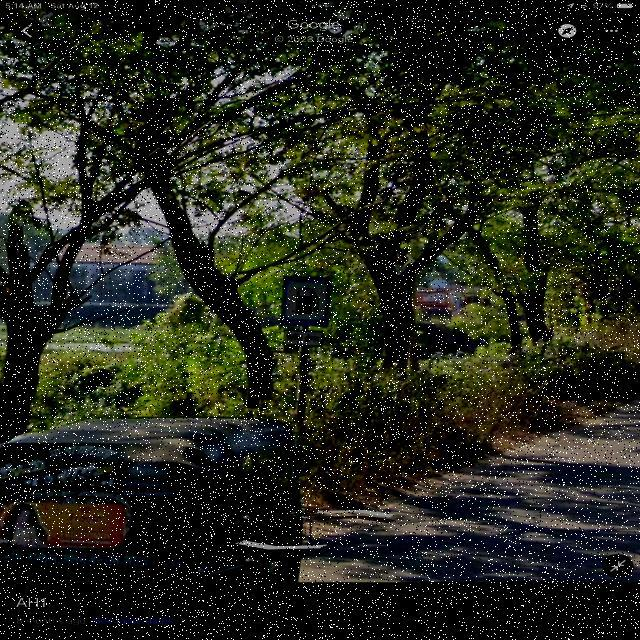Petrol-Station-in-front: (279, 256, 351, 401)
